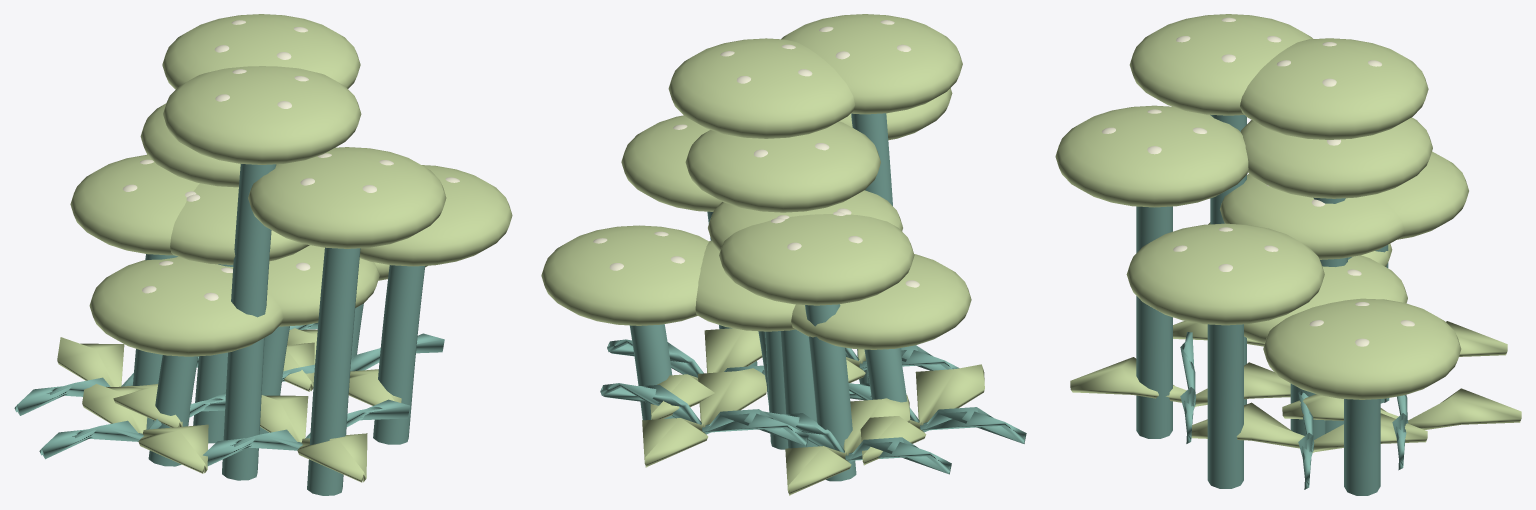
Rendered from bio_spore_fungus_25_near.glb.
3 views of the same model, side by side, from view 1: azimuth 30°, elevation 25°; view 2: azimuth 150°, elevation 25°; view 3: azimuth 270°, elevation 25° (orthographic).
Parts seen in each view (by area): view 1: Thick umbrella cap.007, Thick umbrella cap.002, Thick umbrella cap.004, Thick umbrella cap.003, Curved stipe.007, Thick umbrella cap.001, Curved stipe.002, Thick umbrella cap.005, Curved stipe.005, Thick umbrella cap.009, Thick umbrella cap, Low buttress leaf.017 (+13 smaller); view 2: Thick umbrella cap.003, Thick umbrella cap.001, Thick umbrella cap.008, Thick umbrella cap.006, Thick umbrella cap.007, Thick umbrella cap.004, Thick umbrella cap.005, Low buttress leaf.013, Thick umbrella cap, Low buttress leaf.017, Curved stipe.001, Low buttress leaf.005 (+13 smaller); view 3: Thick umbrella cap.005, Thick umbrella cap.008, Thick umbrella cap.002, Thick umbrella cap.003, Thick umbrella cap.007, Thick umbrella cap.006, Thick umbrella cap.009, Curved stipe.005, Curved stipe.002, Thick umbrella cap.001, Low buttress leaf.013, Thick umbrella cap (+11 smaller).
Part boxes in pixels (<box>): Thick umbrella cap.007: <box>163,66,361,164</box>; Thick umbrella cap.002: <box>248,147,446,248</box>; Thick umbrella cap.004: <box>89,256,283,356</box>; Thick umbrella cap.003: <box>162,14,360,89</box>; Curved stipe.007: <box>222,164,276,480</box>; Thick umbrella cap.001: <box>70,155,199,255</box>; Curved stipe.002: <box>307,247,360,495</box>; Thick umbrella cap.005: <box>359,165,512,266</box>; Curved stipe.005: <box>373,265,425,444</box>; Thick umbrella cap.009: <box>170,183,309,264</box>; Thick umbrella cap: <box>267,245,379,326</box>; Low buttress leaf.017: <box>82,380,208,473</box>; Thick umbrella cap.003: <box>668,38,855,138</box>; Thick umbrella cap.001: <box>719,214,914,305</box>; Thick umbrella cap.008: <box>541,225,708,325</box>; Thick umbrella cap.006: <box>685,121,880,212</box>; Thick umbrella cap.007: <box>781,14,962,114</box>; Thick umbrella cap.004: <box>791,254,971,349</box>; Thick umbrella cap.005: <box>621,115,722,211</box>; Low buttress leaf.013: <box>642,368,766,467</box>; Thick umbrella cap: <box>695,240,795,331</box>; Low buttress leaf.017: <box>860,364,984,465</box>; Curved stipe.001: <box>805,304,856,481</box>; Low buttress leaf.005: <box>785,394,910,495</box>; Thick umbrella cap.005: <box>1126,223,1324,325</box>; Thick umbrella cap.008: <box>1263,298,1461,399</box>; Thick umbrella cap.002: <box>1055,105,1248,207</box>; Thick umbrella cap.003: <box>1240,38,1428,139</box>; Thick umbrella cap.007: <box>1129,14,1312,115</box>; Thick umbrella cap.006: <box>1241,117,1432,198</box>; Thick umbrella cap.009: <box>1220,174,1404,259</box>; Curved stipe.005: <box>1207,324,1243,488</box>; Curved stipe.002: <box>1136,206,1172,438</box>; Thick umbrella cap.001: <box>1378,151,1468,239</box>; Low buttress leaf.013: <box>1282,388,1521,429</box>; Thick umbrella cap: <box>1244,255,1407,343</box>.
Size of the model in its own units: 2.36 by 1.97 by 2.16.
